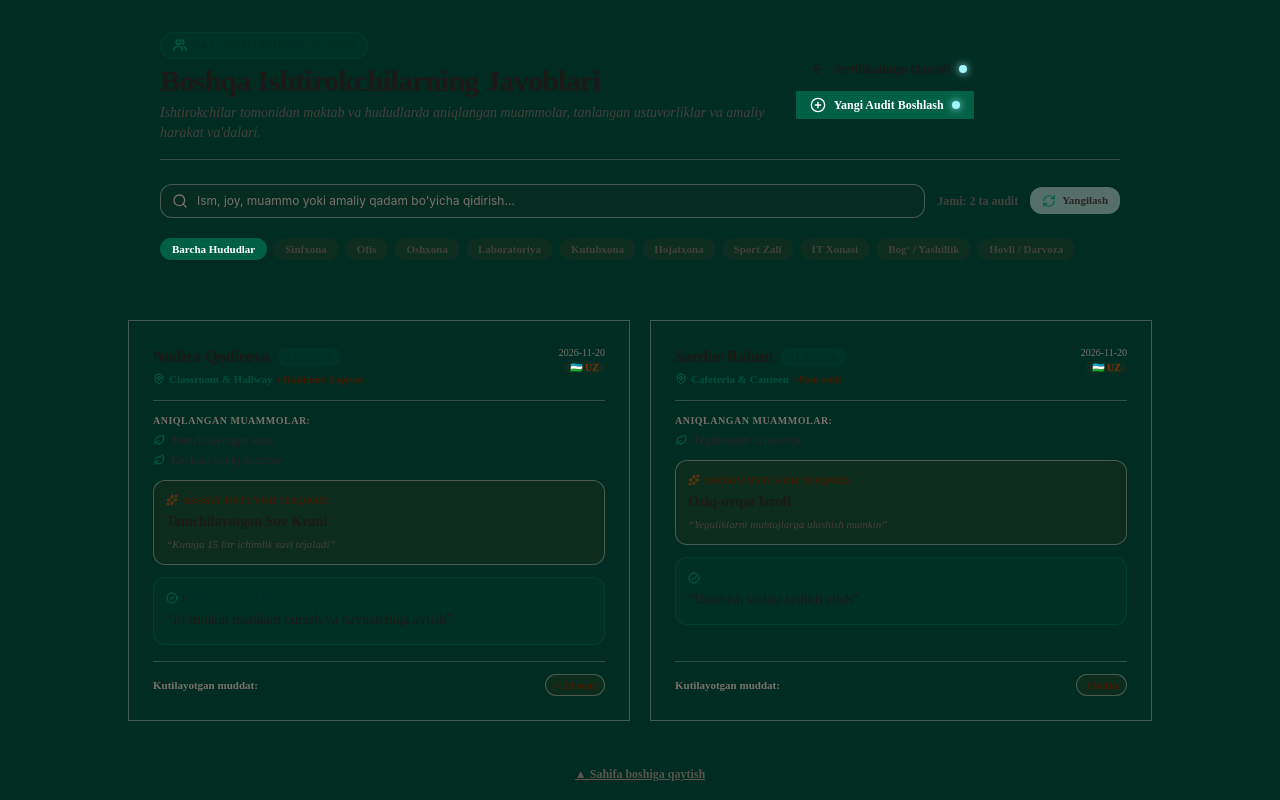
Test: 8. Community Responses Wall, 10 Scenarios & Extended Timers Suite › Community Responses Wall View › filters responses when user types into the search field
The image size is (1280, 800).
Check: the heading "Nodira Qodirova" is shown, box x1=153 y1=345 x2=270 y2=369
Type "Sardor" into the field with placeholder "Ism, joy, muammo yoki amaliy qadam bo'yicha qidirish...".
click(543, 200); type("Sardor")  # box x1=160 y1=184 x2=925 y2=218
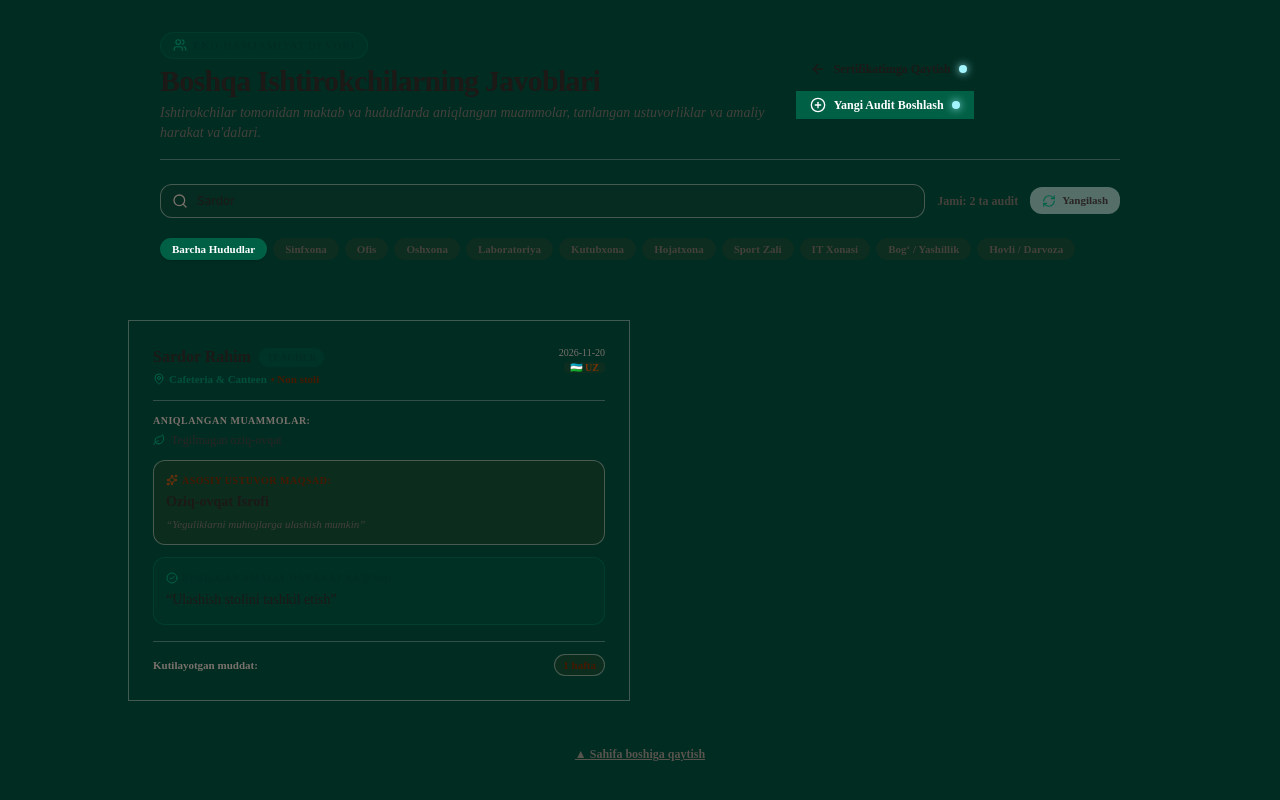
Check: the heading "Sardor Rahim" is shown, box x1=153 y1=345 x2=251 y2=369
Check: the heading "Nodira Qodirova" is gone
